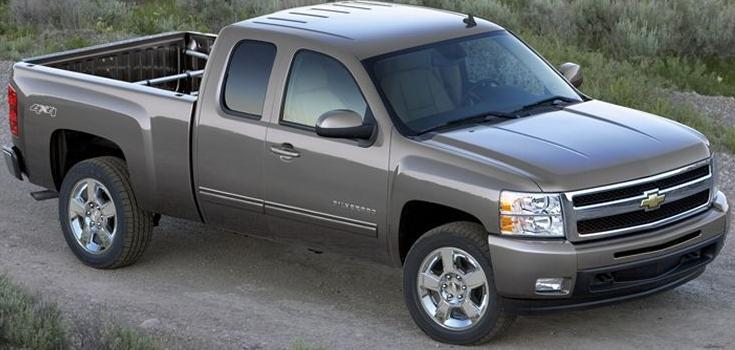backlight: (0, 78, 35, 142)
front_view: (486, 161, 722, 293)
headlight: (496, 183, 566, 234)
side_glass: (200, 39, 372, 154)
